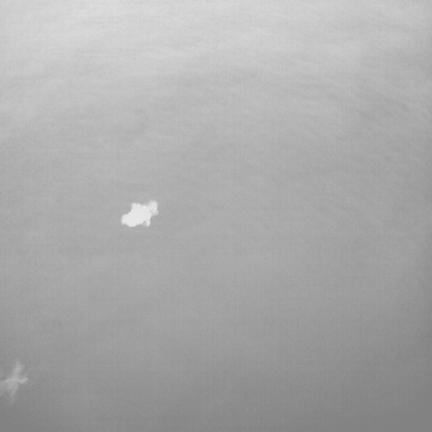flukeprints: (121, 201, 158, 227)
